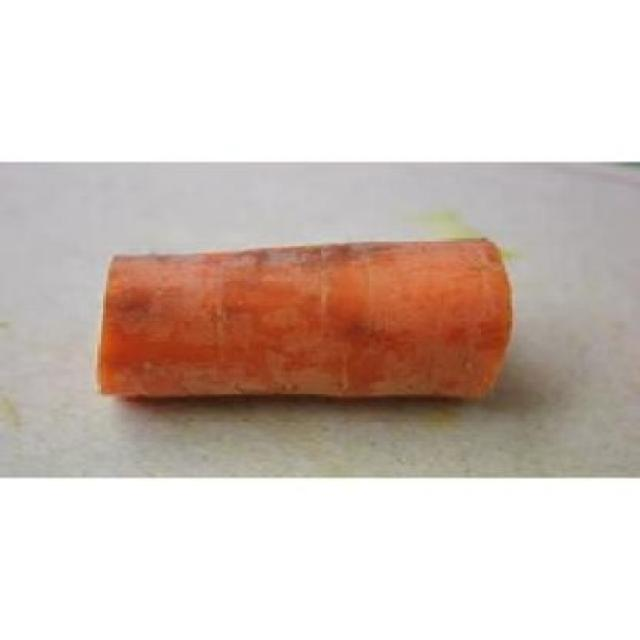carrot: (79, 224, 526, 433)
